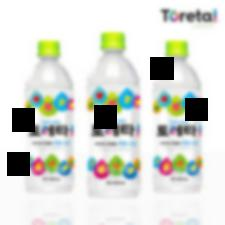toreta: (87, 28, 143, 200), (152, 38, 206, 195), (22, 38, 76, 195)
